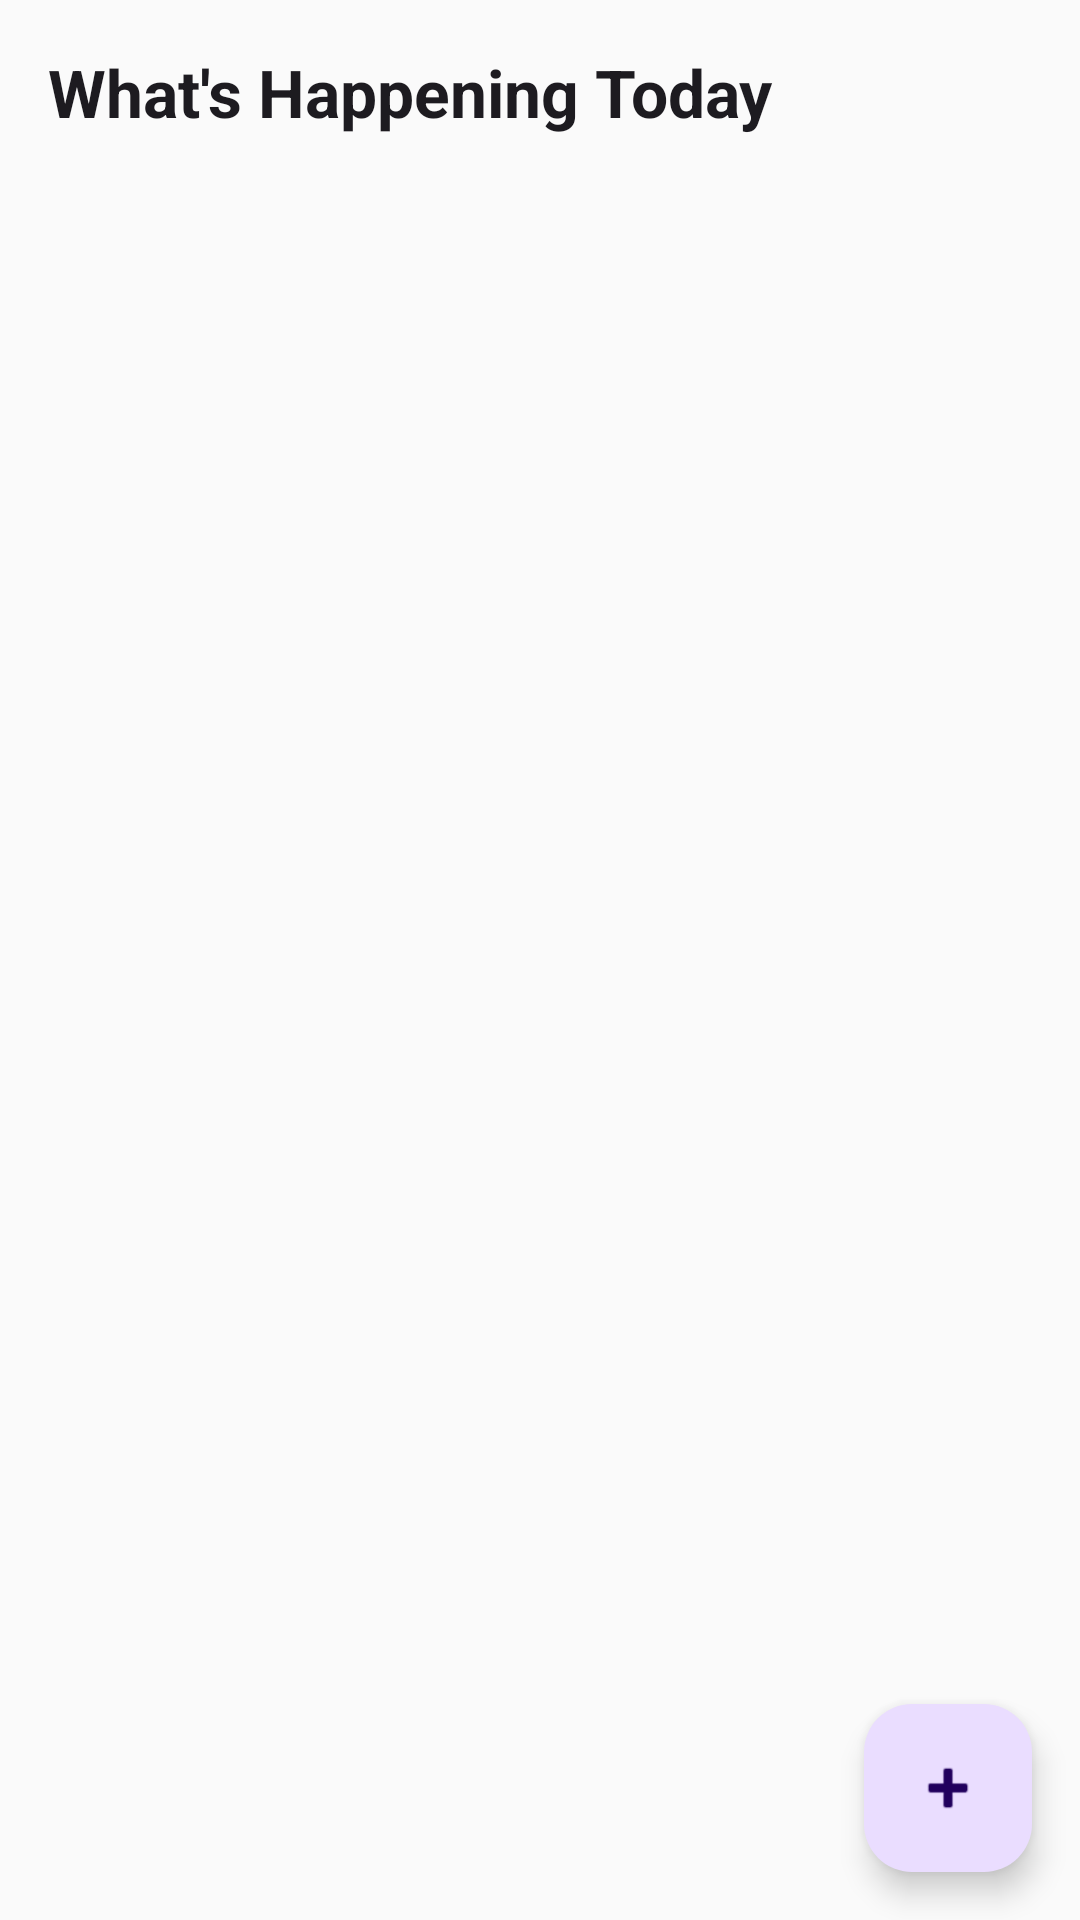

Icons on this 1080px x 1920px Android screen, each with the point to tap as [x,y]:
Add Announcement: [948,1788]
